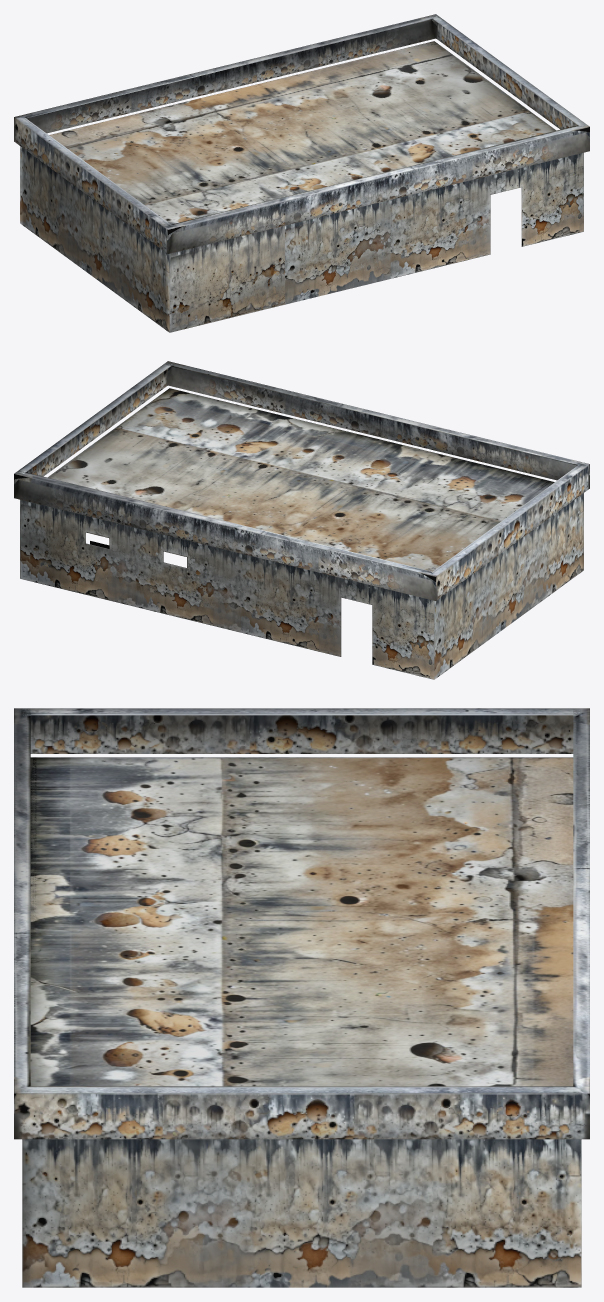
Rendered from skin_radar_-30_30.glb.
3 views of the same model, one above another, from view 1: azimuth 30°, elevation 25°; view 2: azimuth 150°, elevation 25°; view 3: azimuth 270°, elevation 25° (orthographic). The views are drawn at different scales.
Visible parts, largest first — view 1: radar_-30_30; view 2: radar_-30_30; view 3: radar_-30_30.
Boxes of the visible parts, left/top/right/bottom form: radar_-30_30: left=14, top=14, right=589, bottom=332; radar_-30_30: left=14, top=361, right=589, bottom=679; radar_-30_30: left=14, top=708, right=589, bottom=1287.
Size of the model in its own units: 16.3 by 3.9 by 10.3.
Materials: 1 (1 with a texture image).
